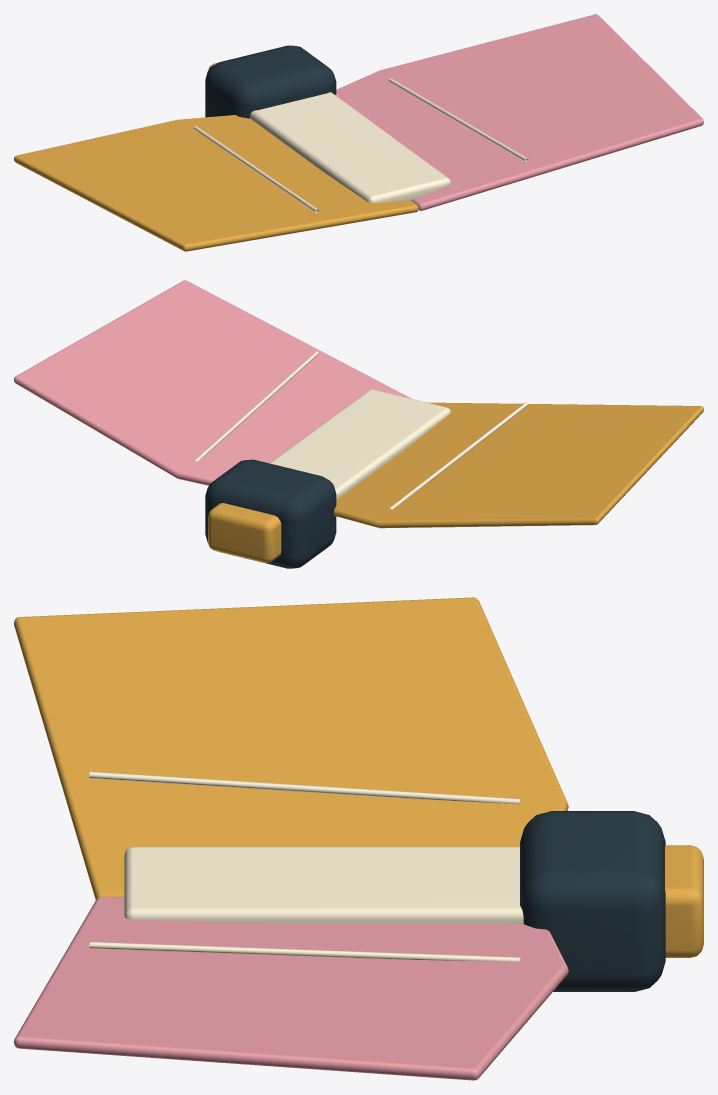
File: part_sticky_note.glb
3 views of the same model, one above another, from view 1: azimuth 30°, elevation 25°; view 2: azimuth 150°, elevation 25°; view 3: azimuth 270°, elevation 25° (orthographic). The views are drawn at different scales.
Visible parts, largest first — view 1: Folded paper wing.001, Folded paper wing, Sticky paper root, Universal rubber mounting pad.004, Paper crease.001, Paper crease; view 2: Folded paper wing.001, Folded paper wing, Sticky paper root, Universal rubber mounting pad.004, Snap-in brass tongue.004, Paper crease, Paper crease.001; view 3: Folded paper wing, Folded paper wing.001, Sticky paper root, Universal rubber mounting pad.004, Snap-in brass tongue.004, Paper crease, Paper crease.001.
Part boxes in pixels (x1,y1,x2,y2): Folded paper wing.001: (335, 14, 703, 210); Folded paper wing: (14, 115, 418, 251); Sticky paper root: (250, 92, 450, 203); Universal rubber mounting pad.004: (205, 45, 336, 118); Paper crease.001: (388, 78, 528, 161); Paper crease: (193, 126, 318, 212); Folded paper wing.001: (14, 280, 410, 485); Folded paper wing: (334, 402, 703, 528); Sticky paper root: (269, 389, 450, 499); Universal rubber mounting pad.004: (205, 459, 336, 568); Snap-in brass tongue.004: (208, 503, 281, 562); Paper crease: (388, 402, 528, 509); Paper crease.001: (194, 351, 318, 462); Folded paper wing: (14, 597, 568, 900); Folded paper wing.001: (14, 897, 568, 1080); Sticky paper root: (124, 847, 523, 923); Universal rubber mounting pad.004: (520, 811, 665, 991); Snap-in brass tongue.004: (665, 845, 703, 957); Paper crease: (89, 771, 520, 804); Paper crease.001: (89, 941, 520, 961).
Size of the model in its own units: 0.0324 by 0.00426 by 0.0199.
